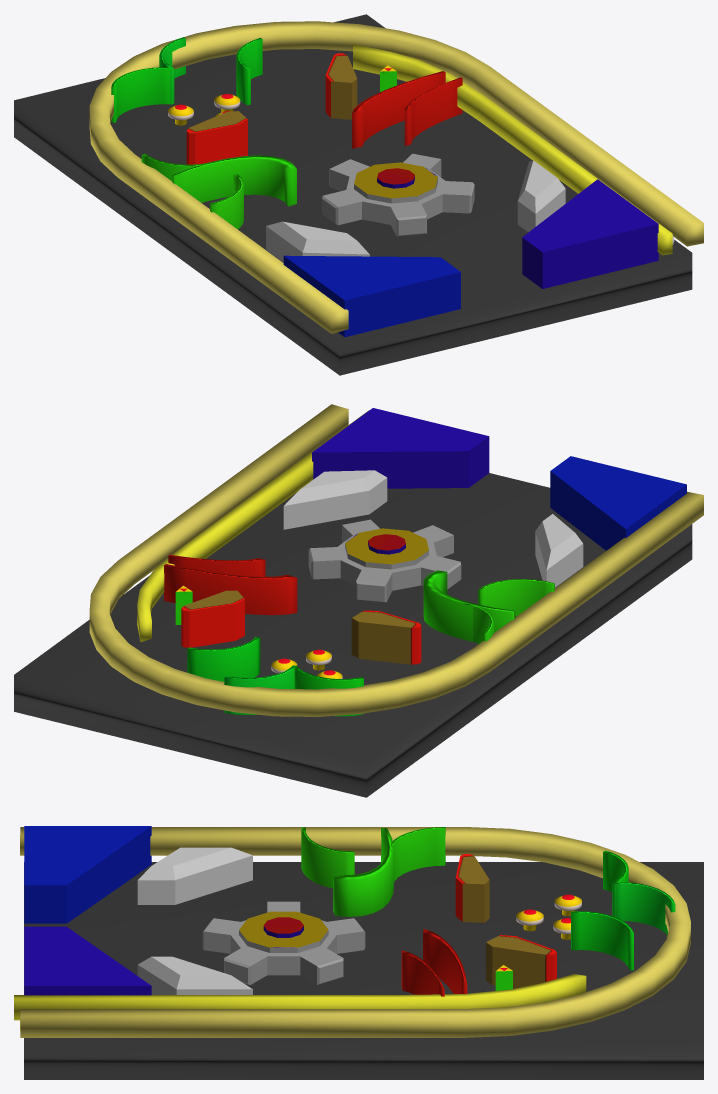
Rendered from pin3DenwVER4.fbx.
The picture shows the model from 3 angles, top to bottom: view 1: azimuth 30°, elevation 25°; view 2: azimuth 150°, elevation 25°; view 3: azimuth 270°, elevation 25°; orthographic projection. The views are drawn at different scales.
Parts seen in each view (by area): view 1: Cube, Scle, Cube.001, Cube.002, Cylinder.004, Scle.001, Scle.009, Scle.005, Cube.006, Cube.003, Cube.005, Scle.004 (+6 smaller); view 2: Cube, Scle, Cube.001, Cylinder.004, Cube.002, Scle.001, Cube.005, Scle.005, Cube.003, Cube.004, Scle.009, Cube.006 (+6 smaller); view 3: Cube, Scle, Cube.002, Cylinder.004, Scle.001, Cube.001, Cube.006, Cube.005, Scle.009, Cube.004, Scle.006, Scle.002 (+9 smaller).
Boxes of the visible parts, <box> form: Cube: <box>14,14,692,375</box>; Scle: <box>89,21,703,333</box>; Cube.001: <box>522,179,658,288</box>; Cube.002: <box>283,255,460,337</box>; Cylinder.004: <box>322,153,474,236</box>; Scle.001: <box>353,44,672,255</box>; Scle.009: <box>172,155,296,206</box>; Scle.005: <box>352,71,445,148</box>; Cube.006: <box>266,221,369,262</box>; Cube.003: <box>186,111,247,164</box>; Cube.005: <box>517,160,565,232</box>; Scle.004: <box>111,67,172,122</box>; Cube: <box>14,473,692,797</box>; Scle: <box>89,404,703,716</box>; Cube.001: <box>312,408,489,488</box>; Cylinder.004: <box>308,519,461,602</box>; Cube.002: <box>550,456,686,550</box>; Scle.001: <box>137,410,368,642</box>; Cube.005: <box>283,470,387,529</box>; Scle.005: <box>164,564,297,615</box>; Cube.003: <box>351,610,421,664</box>; Cube.004: <box>181,590,244,647</box>; Scle.009: <box>423,570,515,641</box>; Cube.006: <box>535,514,583,587</box>; Cube: <box>24,862,703,1079</box>; Scle: <box>20,827,690,1037</box>; Cube.002: <box>24,826,151,923</box>; Cylinder.004: <box>202,901,365,984</box>; Scle.001: <box>14,974,586,1020</box>; Cube.001: <box>24,926,151,995</box>; Cube.006: <box>137,847,252,904</box>; Cube.005: <box>137,956,252,994</box>; Scle.009: <box>333,828,393,916</box>; Cube.004: <box>486,935,556,988</box>; Scle.006: <box>571,911,633,970</box>; Scle.002: <box>612,882,675,934</box>.
Bounding box in the file's own units: 2112 × 400 × 3247.
